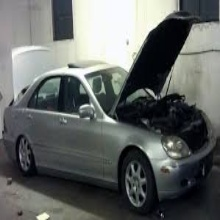no damage: (3, 59, 217, 211)
